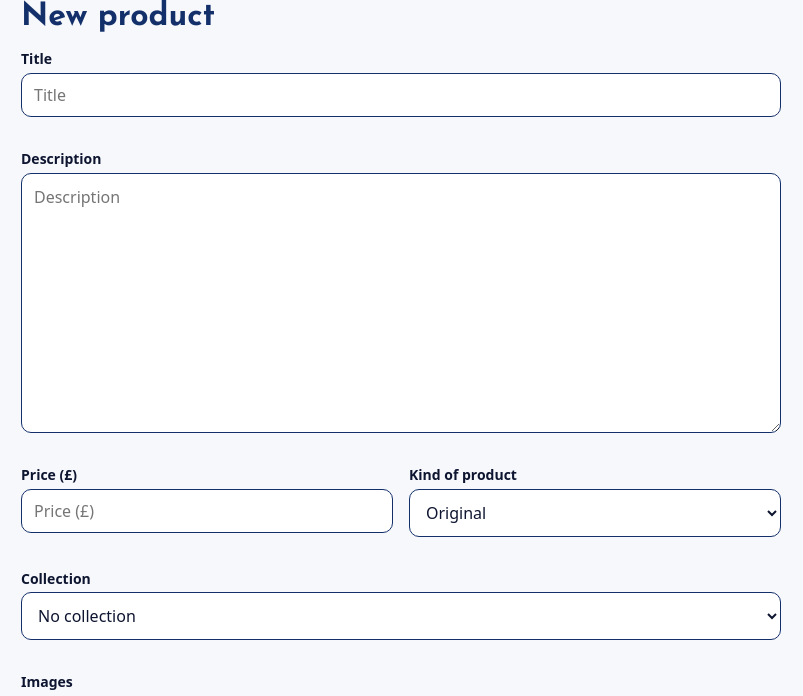
the New product form › names only what is wrong: a title and description but no price points at the price alone
The width and height of the screenshot is (803, 696).
In the field labelled "Title": (401, 95) [21,73,781,117], type "A print"
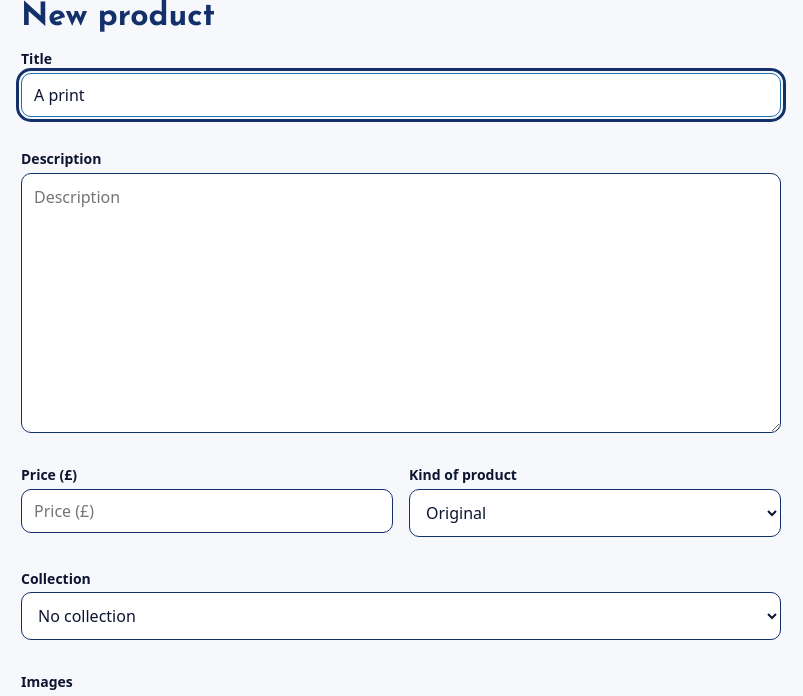
In the text box labelled "Description": (401, 303) [21,173,781,433], type "Nice"
(page scrolled)
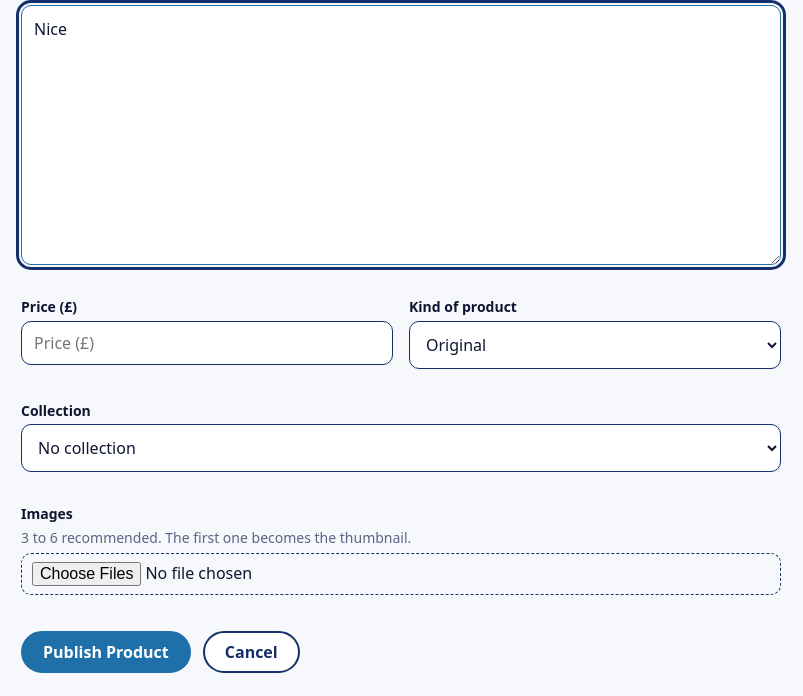
Click the button "Publish Product": (106, 652) [21,631,191,673]
(page scrolled)
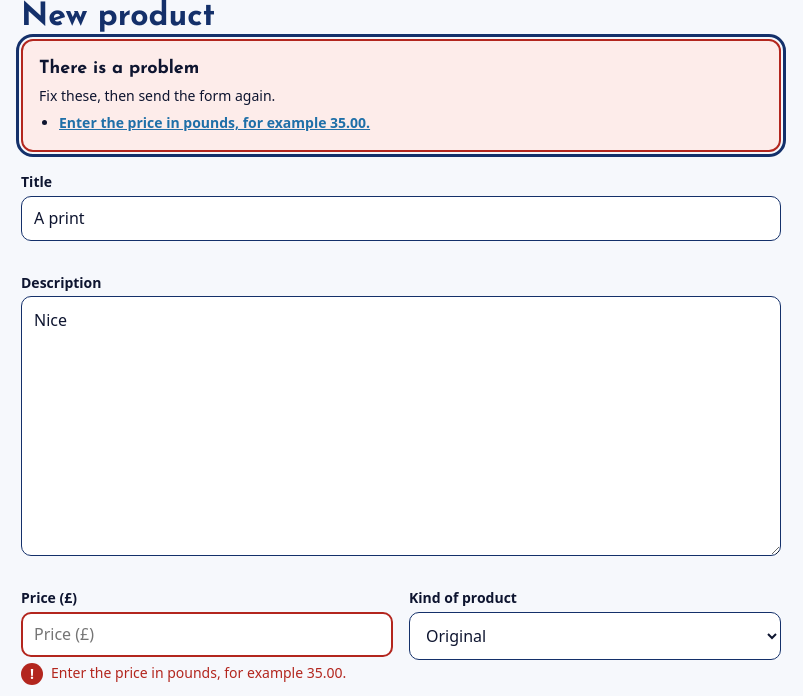
Now the number of links is 1, box [59,113,370,132]
